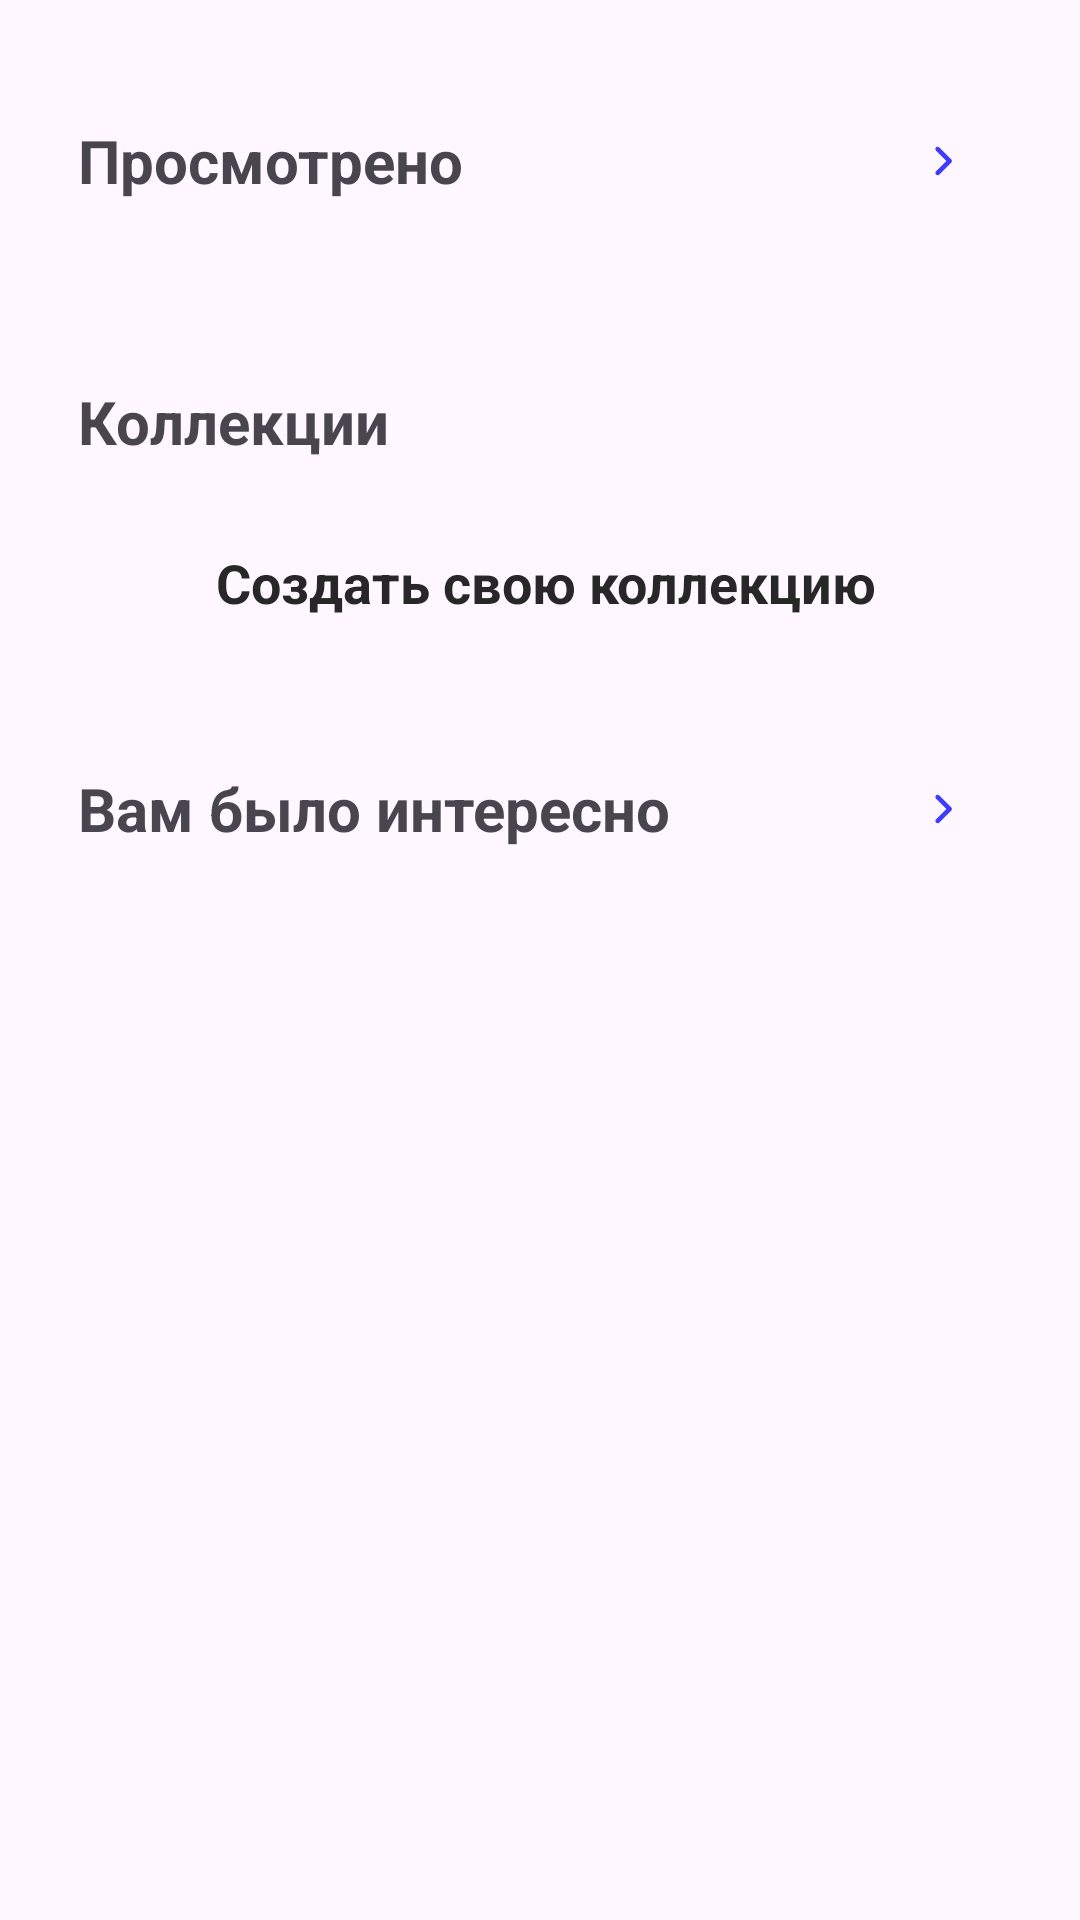

Icons on this 1080px x 1920px Android screen, each with the point to tap as point (x, y):
right: point (943, 161), point (943, 809)
